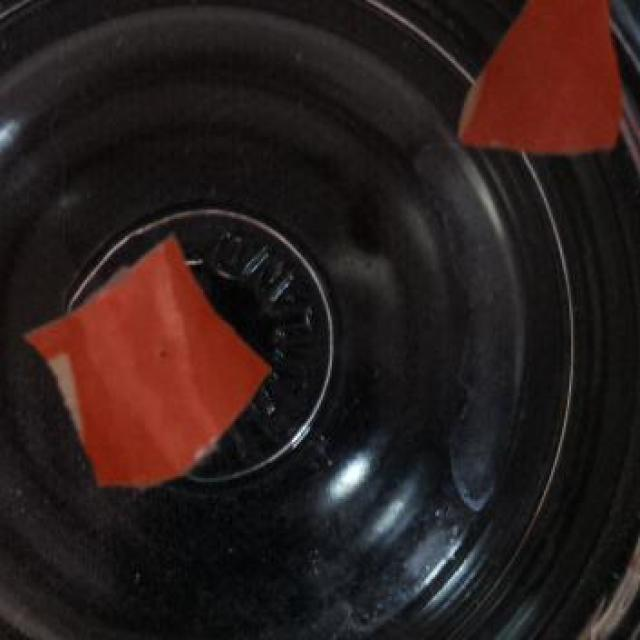fiber: (22, 229, 271, 493), (457, 0, 624, 162)
